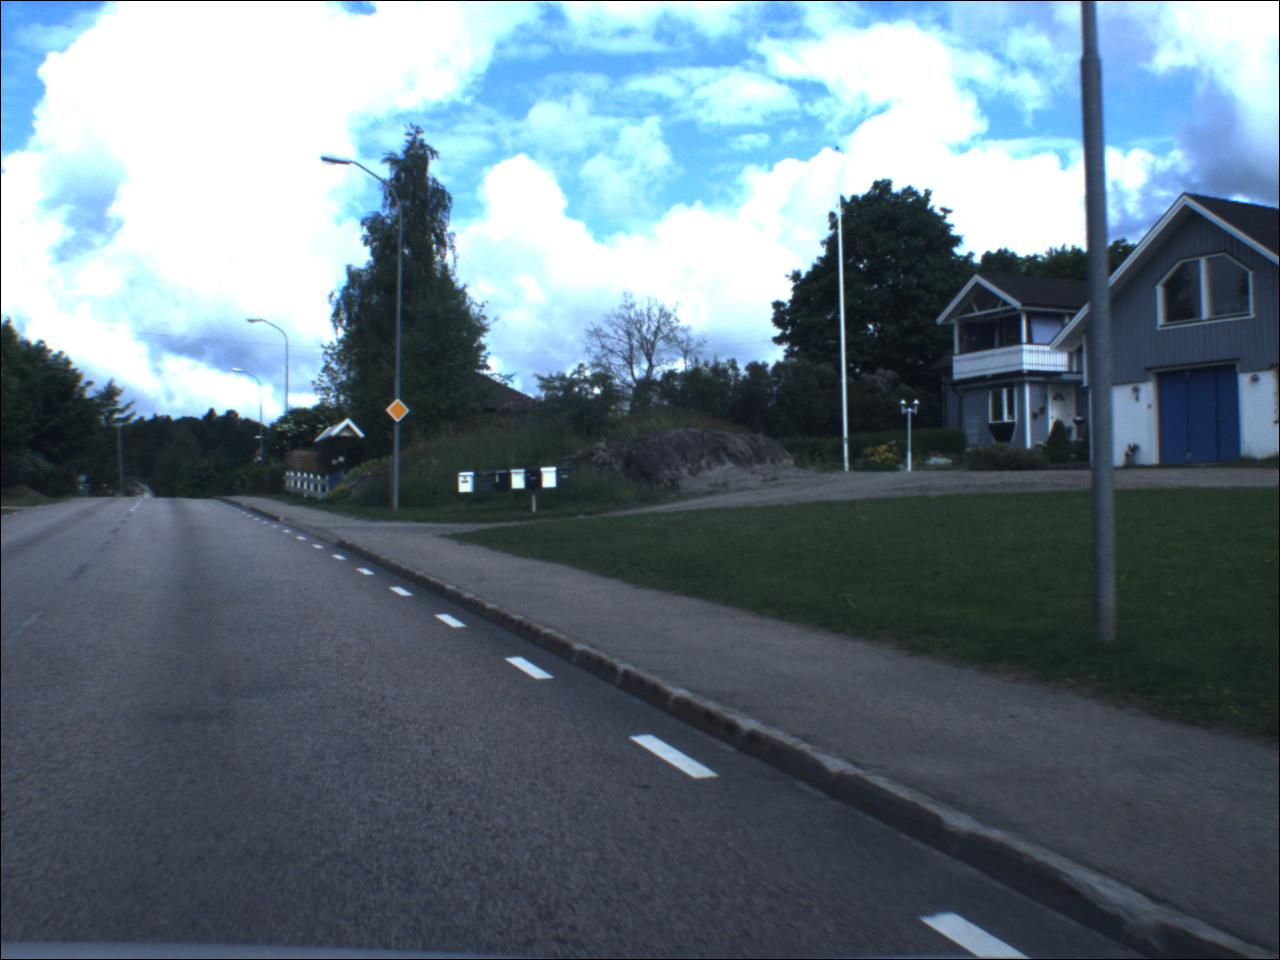PRIORITY_ROAD: (384, 396, 417, 429)
